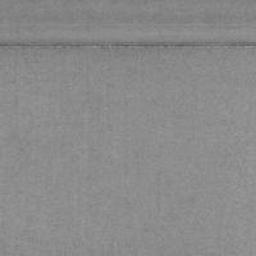Welding line: (0, 42, 256, 47)
